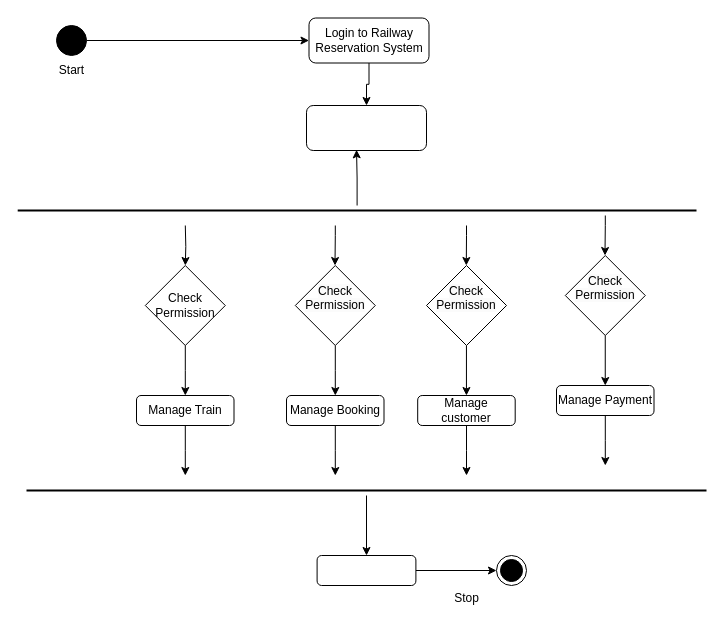
Image size: 725x630. Some labels were removed from this diagram. The shapes that lost their labels are listed below. From the top down, each one's centre as x and y in pixels, then its label:
the point at 366,127: Check user level and Permission
the point at 366,570: Logout from the syste,
